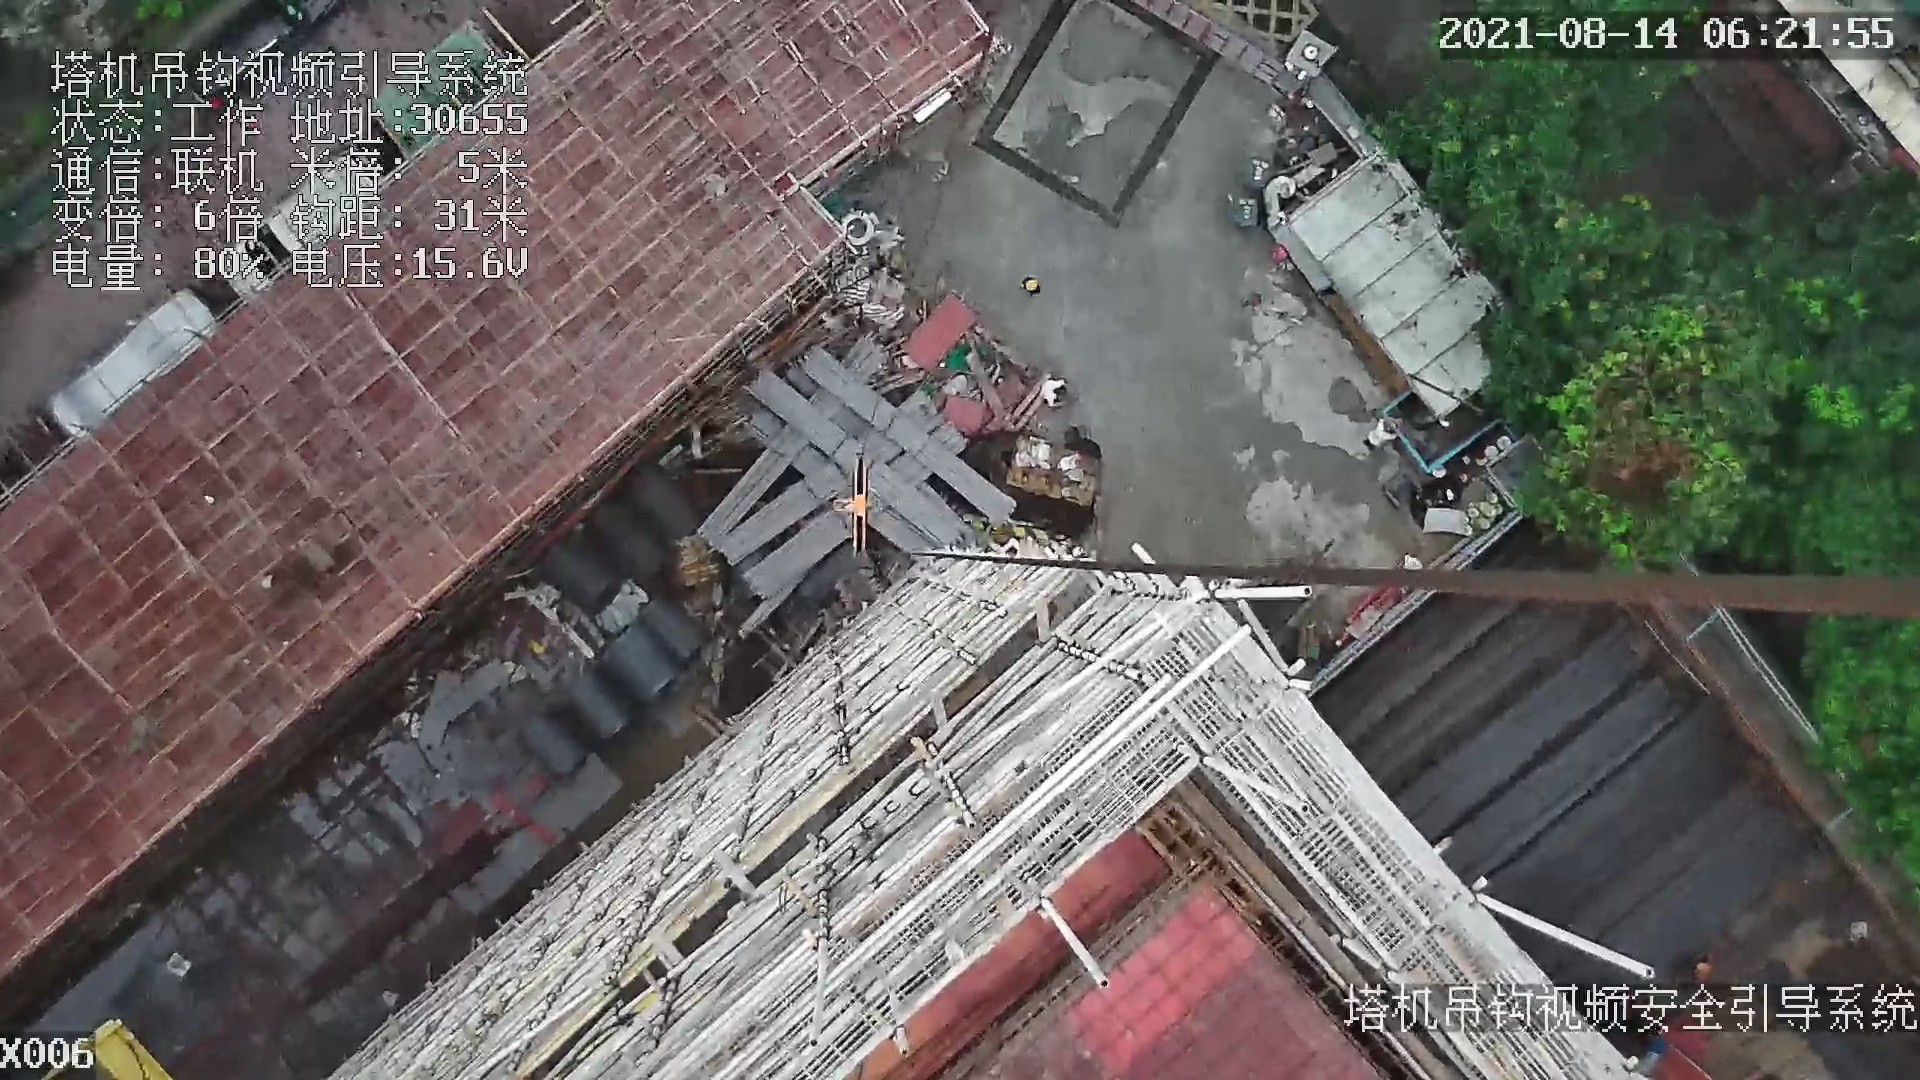hook: (835, 456, 862, 562)
person: (1020, 273, 1049, 297)
